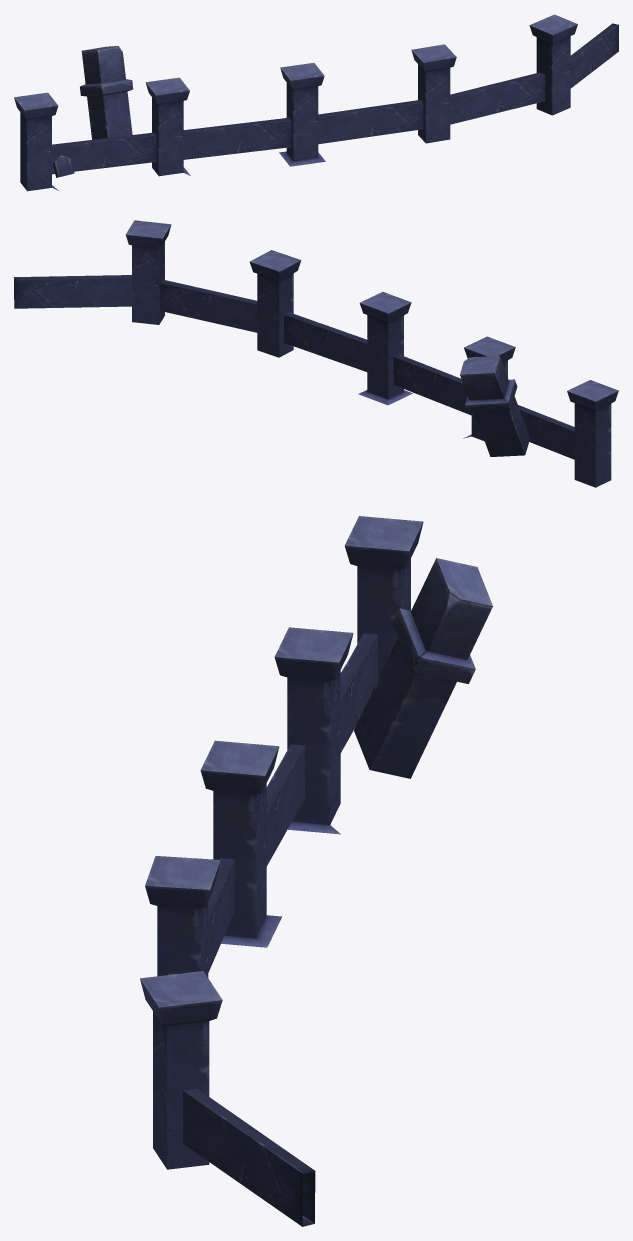
File: Area07_2.fbx
3 renders of one model, top to bottom at view 1: azimuth 30°, elevation 25°; view 2: azimuth 150°, elevation 25°; view 3: azimuth 270°, elevation 25°, orthographic. The views are drawn at different scales.
Parts seen in each view (by area): view 1: Area07_2; view 2: Area07_2; view 3: Area07_2.
Boxes of the visible parts, x1,y1,x2,y2 form: Area07_2: (14, 14, 618, 191); Area07_2: (14, 220, 618, 487); Area07_2: (140, 516, 492, 1226).
Bounding box in the file's own units: 5069 × 913 × 1336.
